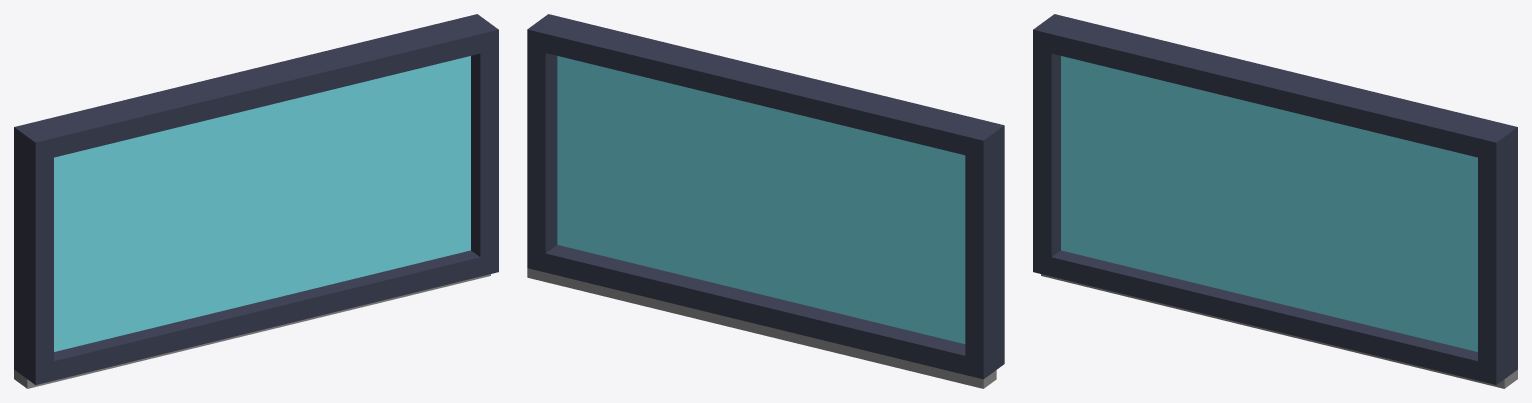
File: billboard_wall.obj
The picture shows the model from 3 angles, left to right: view 1: azimuth 30°, elevation 25°; view 2: azimuth 150°, elevation 25°; view 3: azimuth 330°, elevation 25°; orthographic projection.
Visible parts, largest first — view 1: panel; view 2: panel; view 3: panel.
Part boxes in pixels (box(x1,y1,x2,y2)): panel: box(14, 14, 498, 388); panel: box(527, 14, 1004, 388); panel: box(1033, 14, 1517, 388).
Bounding box in the file's own units: 10 × 5.2 × 0.8.
